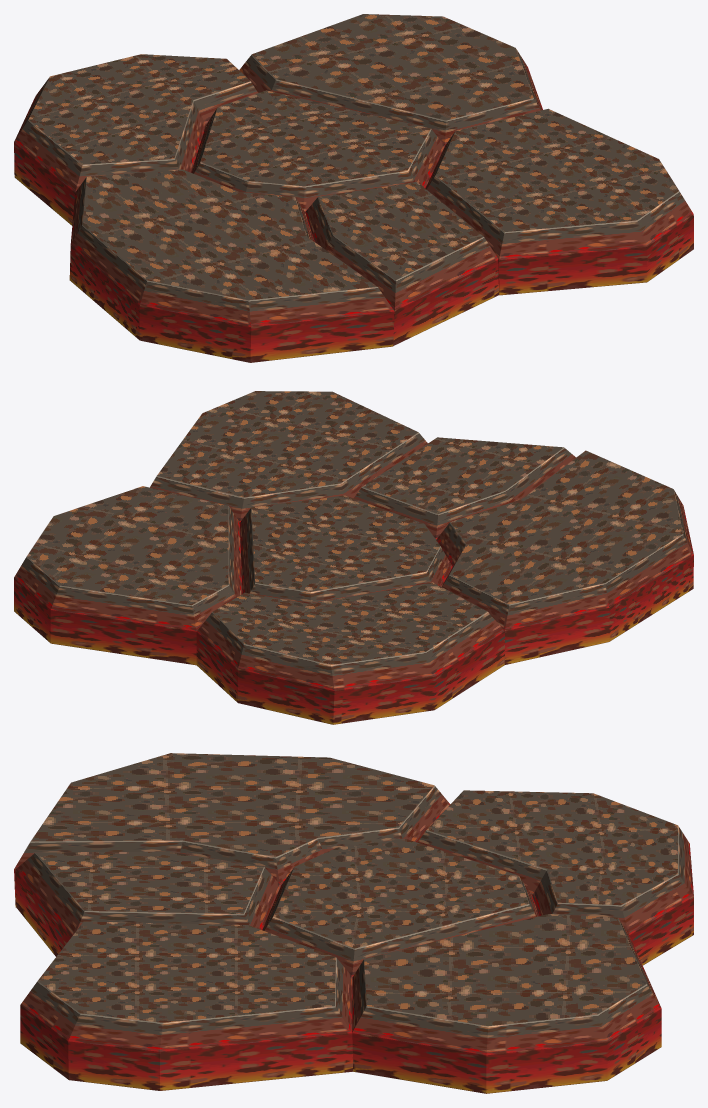
The model's file is MagRock.fbx.
3 renders of one model, top to bottom at view 1: azimuth 30°, elevation 25°; view 2: azimuth 150°, elevation 25°; view 3: azimuth 270°, elevation 25°, orthographic. The views are drawn at different scales.
Parts seen in each view (by area): view 1: n8b8, n9b9, n0b0, n4b4, n2b2, n6b7, n1b1, n10b11, n11b10, n3b3, n5b5, n7b6; view 2: n8b8, n3b3, n0b0, n4b4, n2b2, n6b7, n9b9, n5b5, n10b11, n1b1, n7b6, n11b10; view 3: n8b8, n0b0, n1b1, n4b4, n5b5, n2b2, n6b7, n10b11, n3b3, n11b10, n9b9, n7b6.
Boxes of the visible parts, x1=… form: n8b8: x1=82, y1=169, x2=377, y2=300; n9b9: x1=69, y1=177, x2=394, y2=362; n0b0: x1=436, y1=108, x2=678, y2=231; n4b4: x1=252, y1=14, x2=533, y2=120; n2b2: x1=28, y1=54, x2=250, y2=164; n6b7: x1=201, y1=90, x2=430, y2=186; n1b1: x1=425, y1=132, x2=693, y2=295; n10b11: x1=318, y1=182, x2=483, y2=279; n11b10: x1=305, y1=197, x2=498, y2=345; n3b3: x1=14, y1=77, x2=257, y2=225; n5b5: x1=239, y1=49, x2=542, y2=145; n7b6: x1=191, y1=107, x2=444, y2=211; n8b8: x1=449, y1=450, x2=682, y2=604; n3b3: x1=196, y1=611, x2=504, y2=724; n0b0: x1=157, y1=391, x2=418, y2=497; n4b4: x1=27, y1=486, x2=228, y2=604; n2b2: x1=213, y1=582, x2=487, y2=664; n6b7: x1=251, y1=495, x2=439, y2=591; n9b9: x1=436, y1=489, x2=693, y2=664; n5b5: x1=14, y1=506, x2=242, y2=665; n10b11: x1=362, y1=437, x2=563, y2=513; n1b1: x1=150, y1=432, x2=427, y2=522; n7b6: x1=240, y1=508, x2=452, y2=603; n11b10: x1=353, y1=447, x2=575, y2=539; n8b8: x1=31, y1=753, x2=434, y2=856; n0b0: x1=38, y1=921, x2=335, y2=1022; n1b1: x1=20, y1=957, x2=352, y2=1090; n4b4: x1=364, y1=914, x2=646, y2=1025; n5b5: x1=352, y1=918, x2=661, y2=1093; n2b2: x1=427, y1=790, x2=677, y2=905; n6b7: x1=274, y1=838, x2=528, y2=948; n10b11: x1=36, y1=852, x2=263, y2=913; n3b3: x1=417, y1=825, x2=693, y2=965; n11b10: x1=15, y1=852, x2=280, y2=956; n9b9: x1=14, y1=785, x2=450, y2=907; n7b6: x1=262, y1=868, x2=539, y2=976.
Bounding box in the file's own units: 1004 × 102 × 1015.
Materials: 2 (2 with a texture image).
